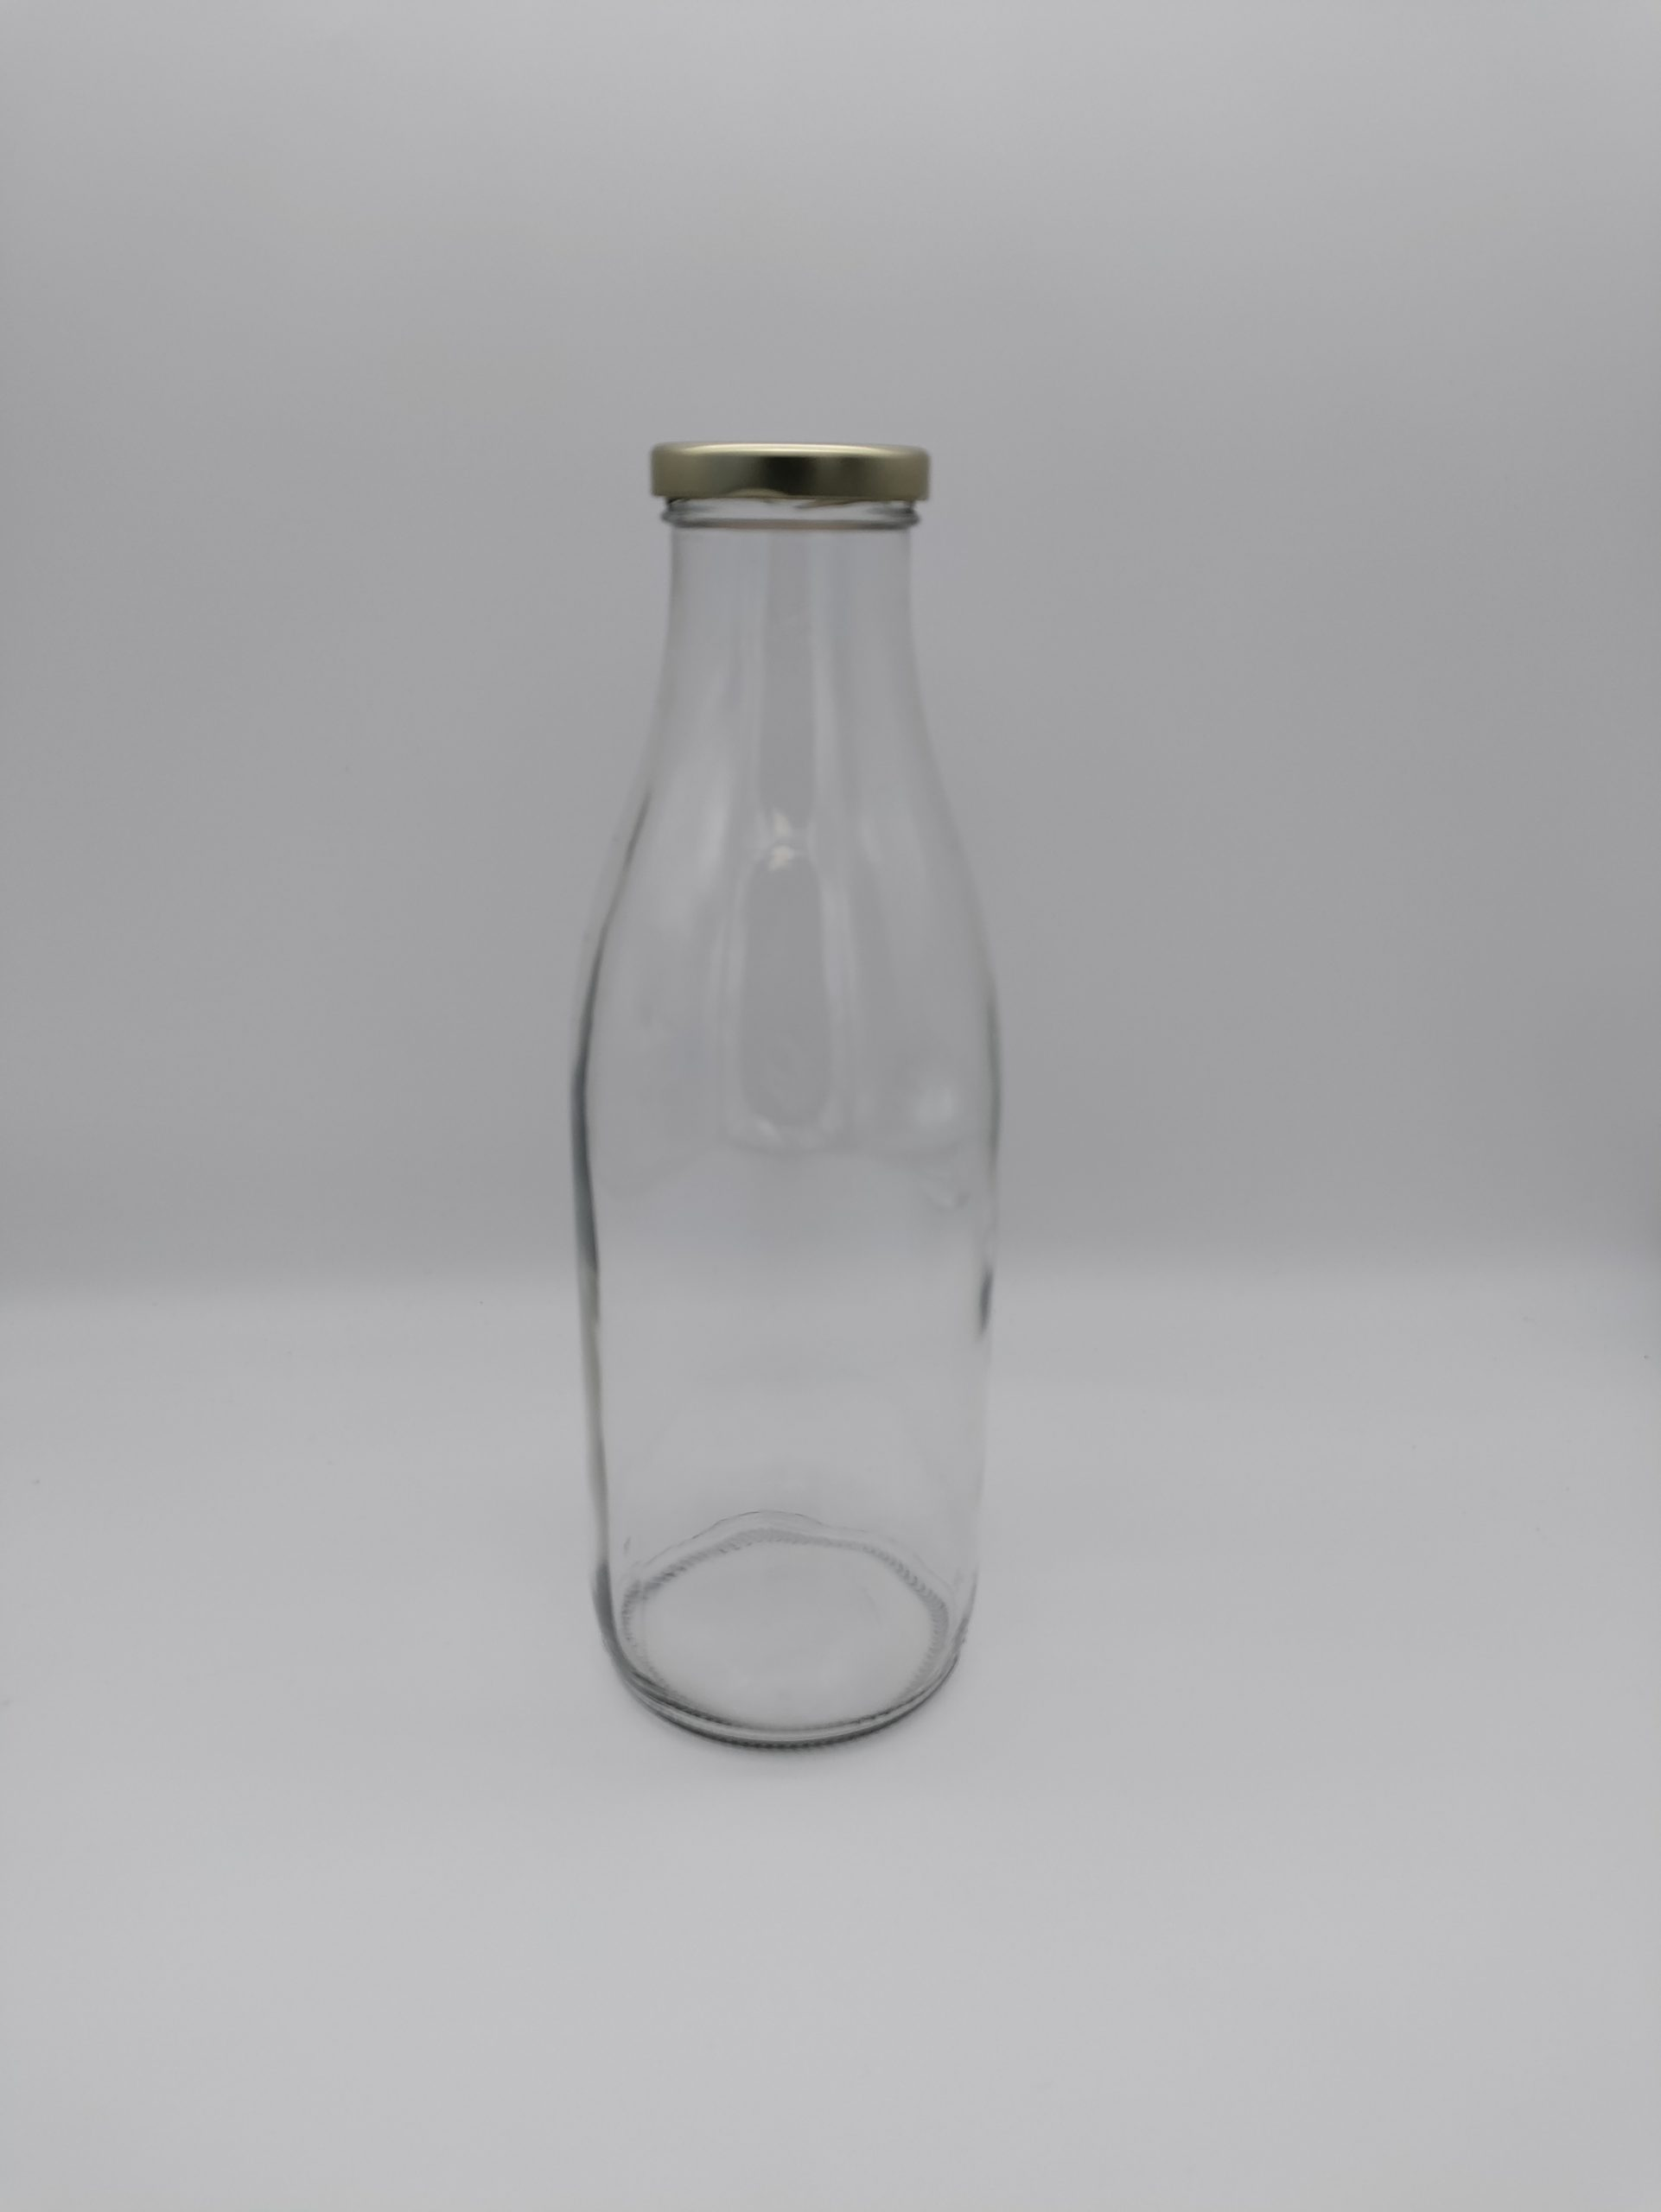glass_bottle: (480, 380, 1143, 1854)
